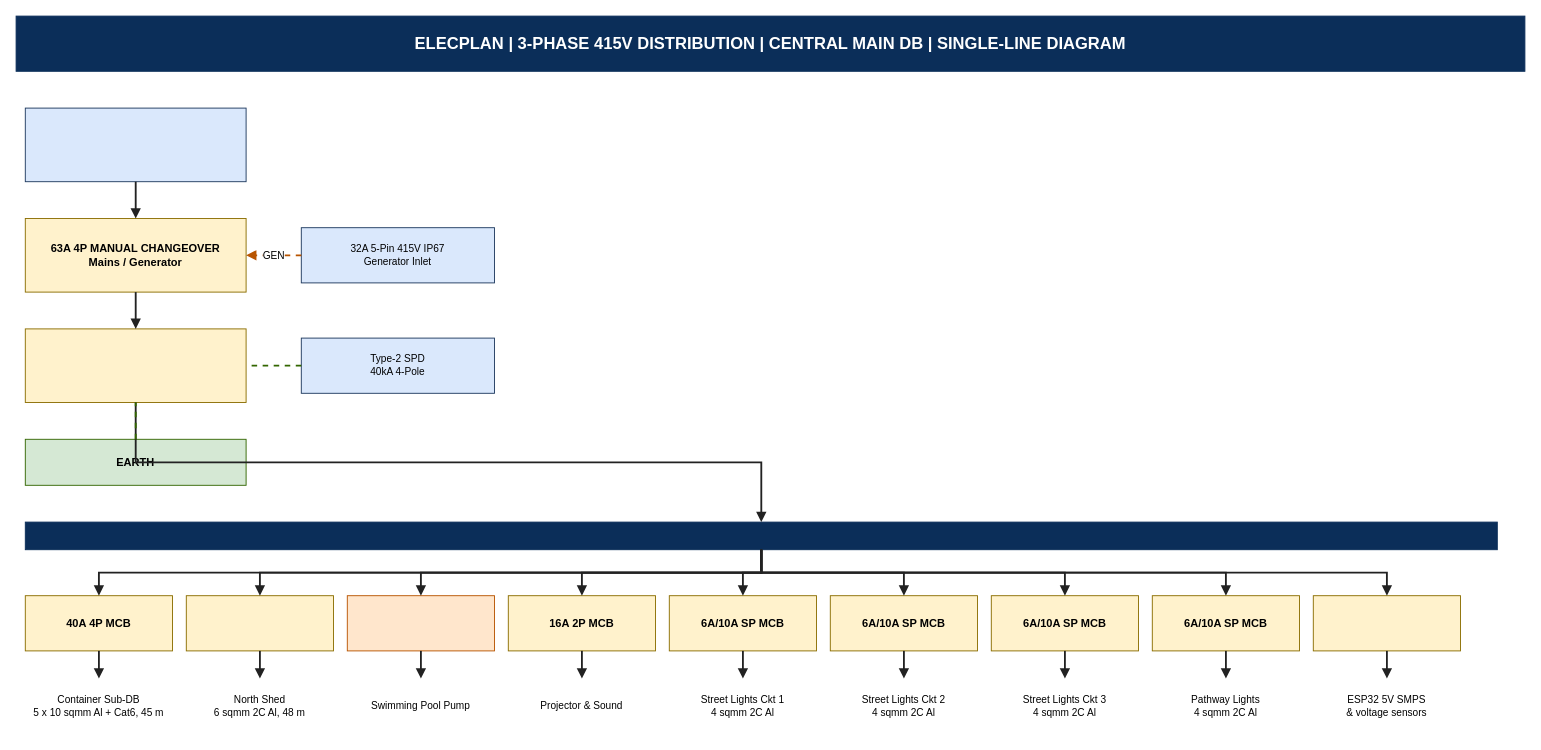
The diagram is 1541 pixels wide and 750 high, and some of its shapes have lost their labels. Here are the shapes that lost their labels. From the top down, the box of each, then its label:
(24, 107, 246, 182): SOURCE: SOUTH POLE METER 415V 3Ph 50Hz 16 sqmm 4C Al Armoured, 40 m
(24, 328, 246, 402): OV / UV PROTECTOR 270V high cutoff, auto-reclose
(24, 521, 1497, 550): 100A BUSBAR (3Ph + N + E)
(185, 595, 334, 651): 32A 2P MCB
(346, 595, 494, 651): 16A 2P RCBO 30 mA
(1312, 595, 1460, 651): 6A SP MCB
